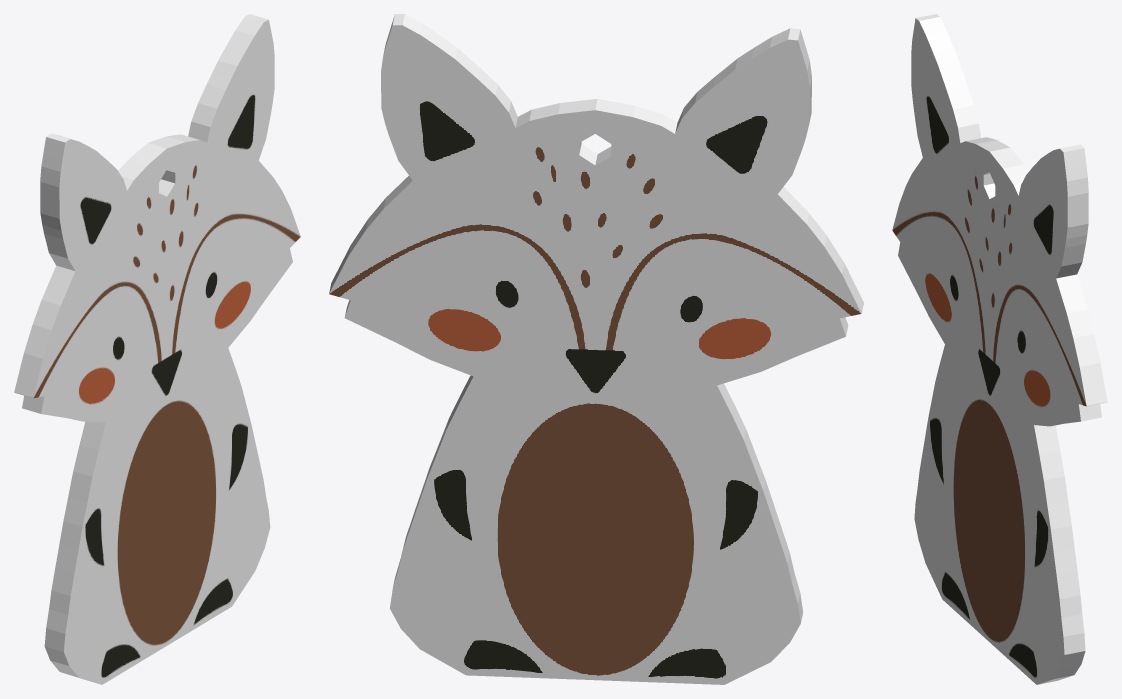
The model's file is adorno_madera.glb.
3 renders of one model, left to right at view 1: azimuth 30°, elevation 25°; view 2: azimuth 150°, elevation 25°; view 3: azimuth 270°, elevation 25°, orthographic. The views are drawn at different scales.
Parts seen in each view (by area): view 1: Plane; view 2: Plane; view 3: Plane.
Boxes of the visible parts, box(x1,y1,x2,y2) form: Plane: box(14, 14, 300, 684); Plane: box(329, 14, 863, 684); Plane: box(892, 14, 1107, 684).
Bounding box in the file's own units: 1.84 × 2.66 × 0.9301.
Materials: 1 (1 with a texture image).
